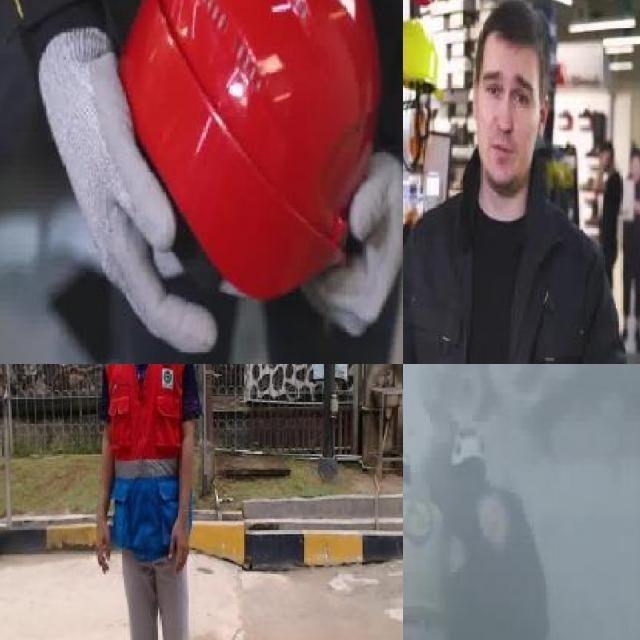apron: (39, 24, 219, 353), (302, 142, 403, 341)
